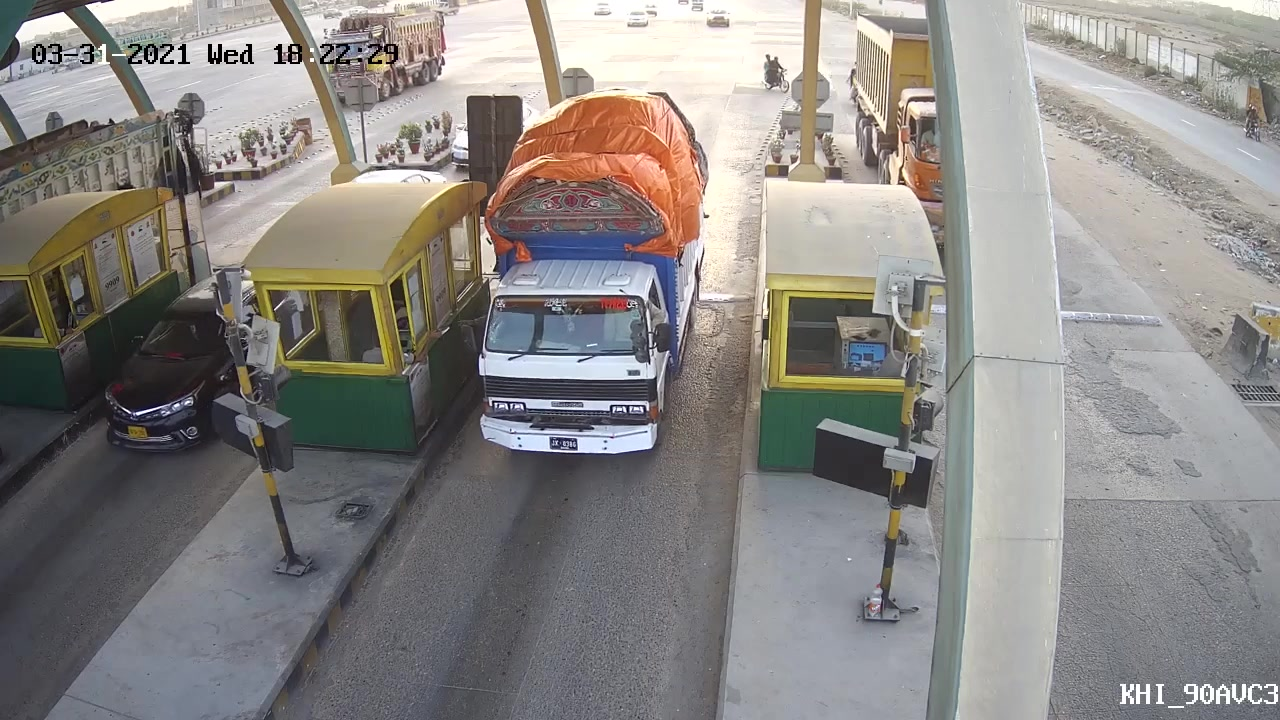F5: (457, 171, 710, 464)
